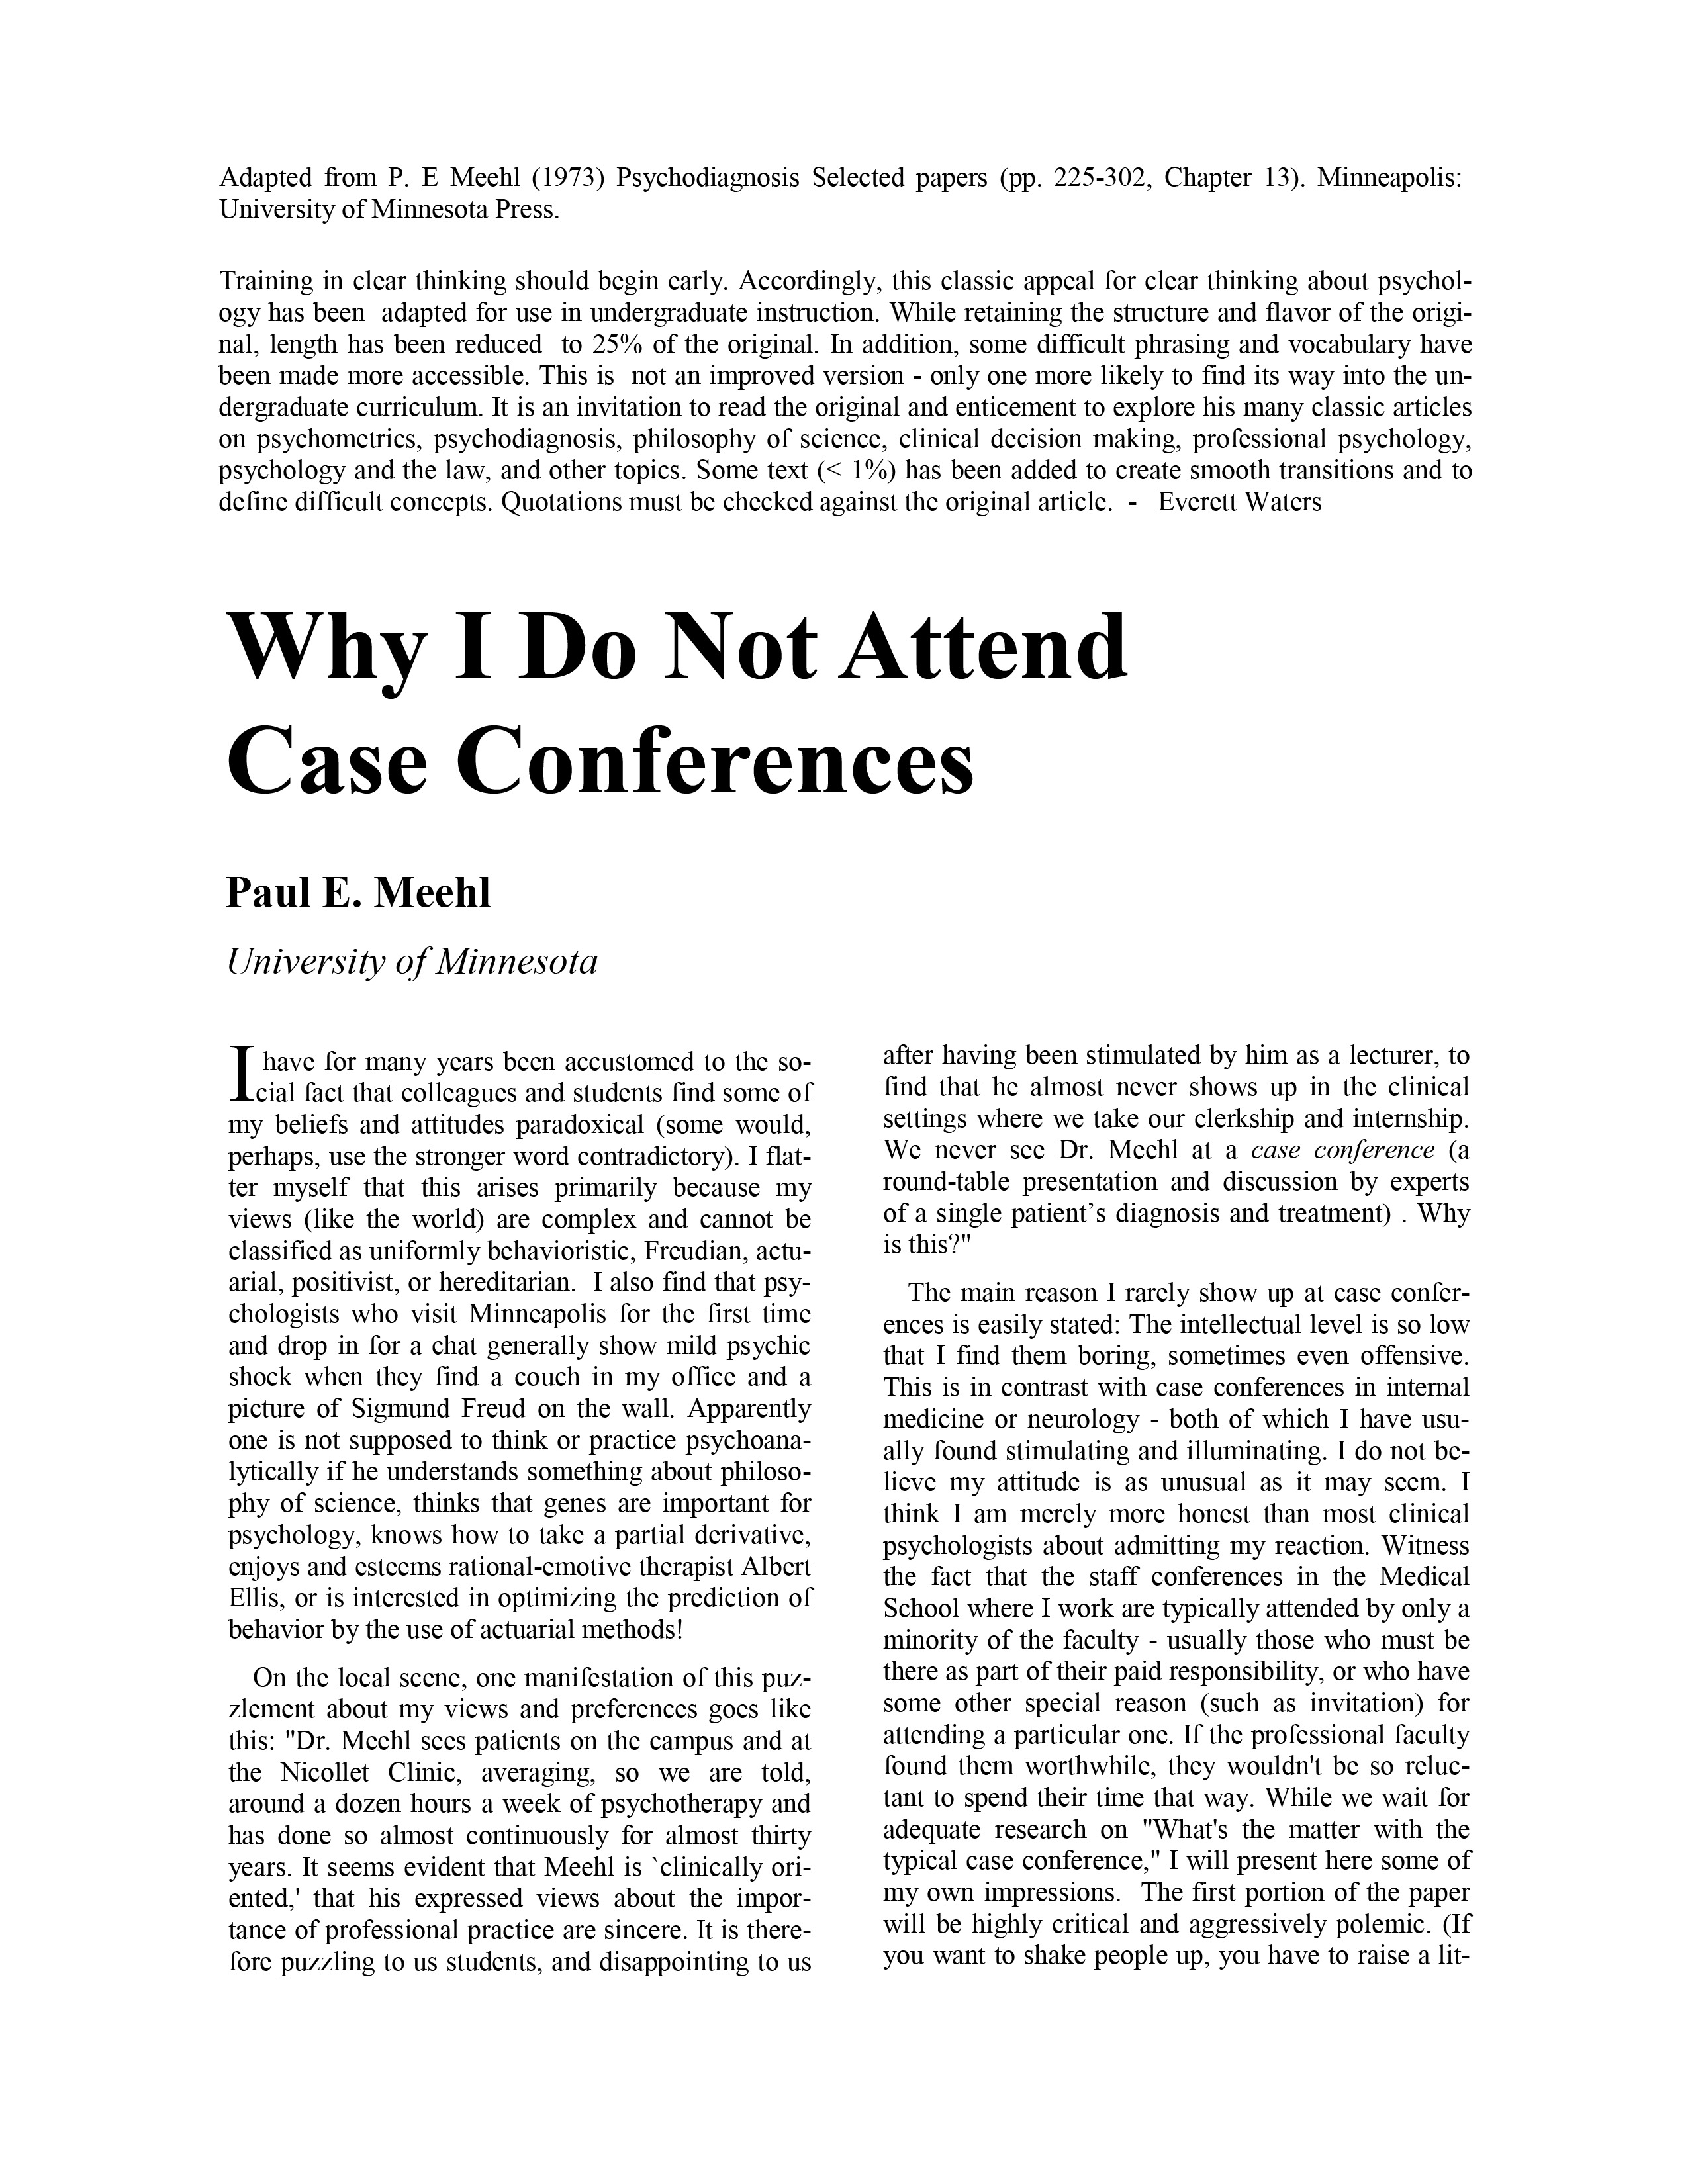section: (223, 569, 1135, 830), (204, 865, 509, 918)
text: (876, 1262, 1475, 1980), (213, 1035, 837, 1649), (220, 250, 1486, 539), (209, 1661, 819, 1991), (883, 1028, 1475, 1252), (209, 147, 1461, 232), (213, 932, 603, 989)
